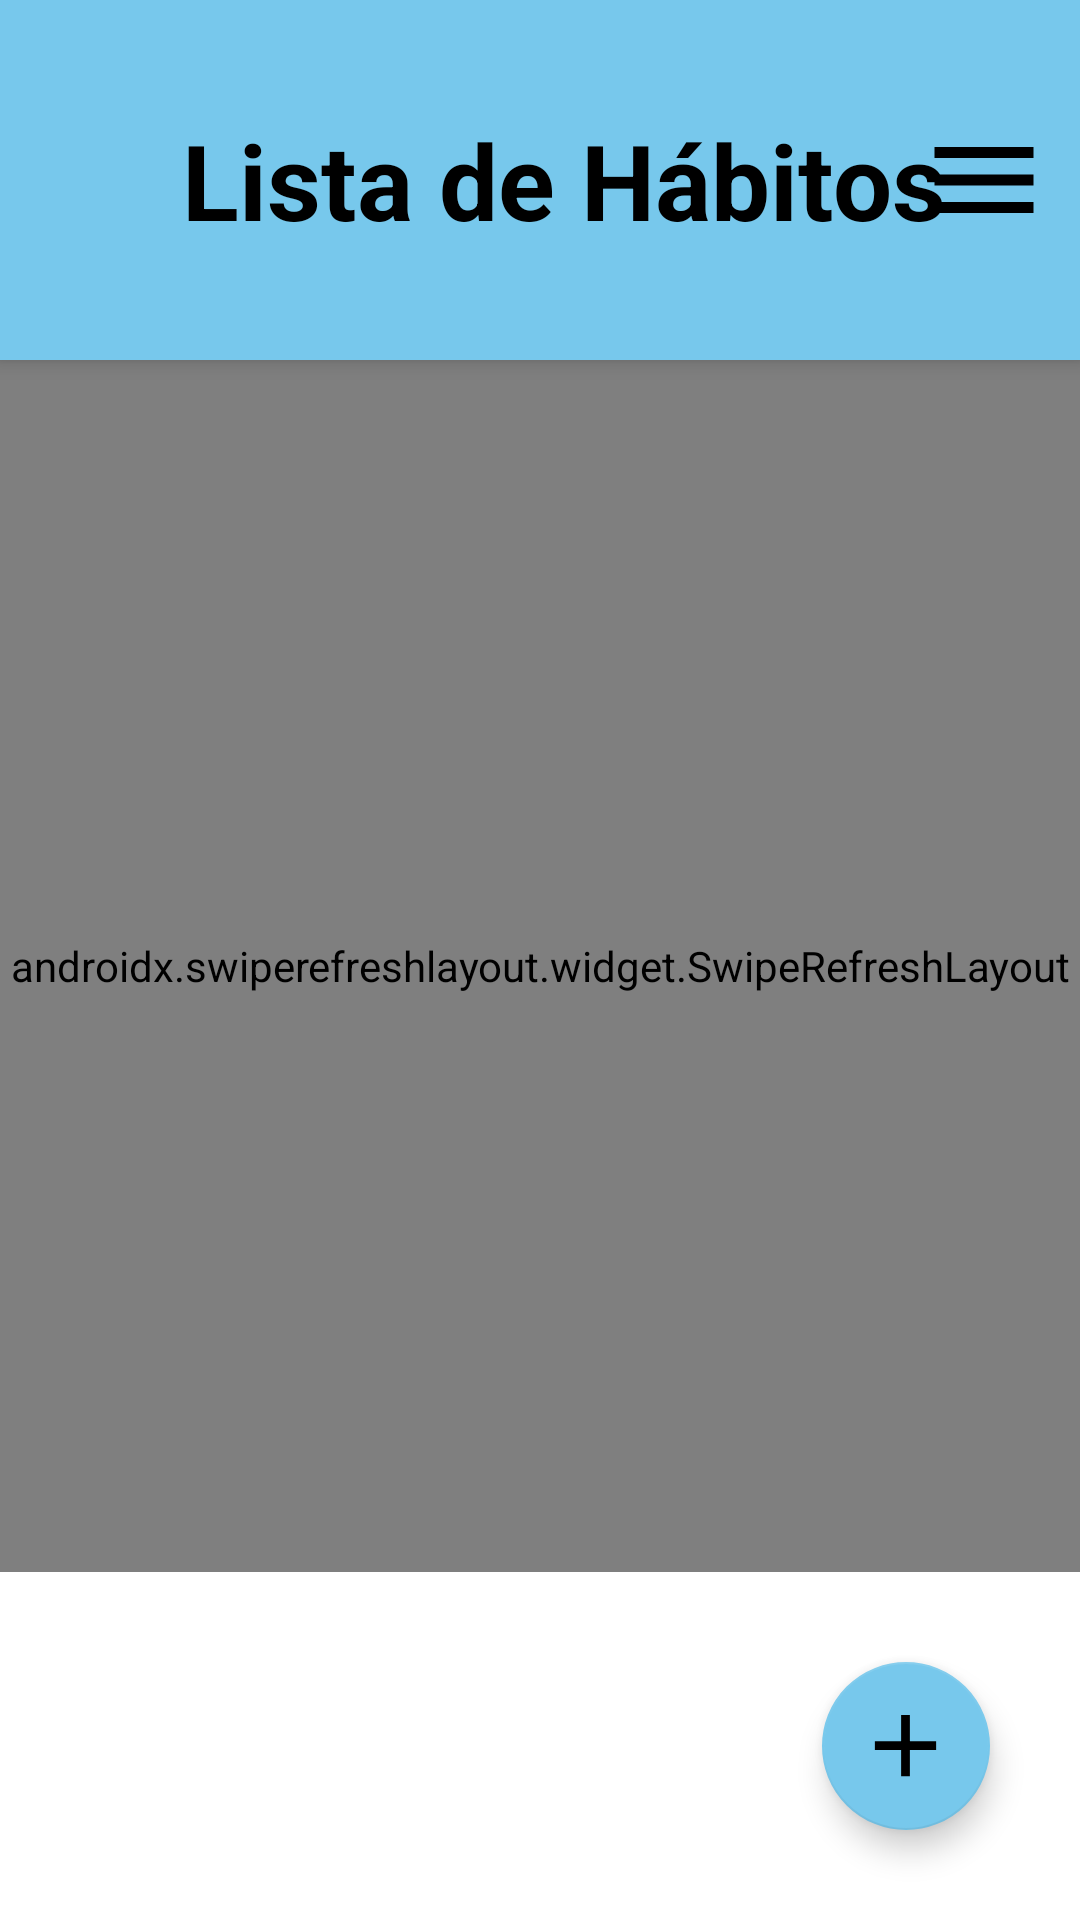

Screen size 1080px x 1920px. Icon name, then its box in pixels as rect(x1, y1, x2, y2):
Agregar nuevo hábito: rect(822, 1662, 990, 1830)
